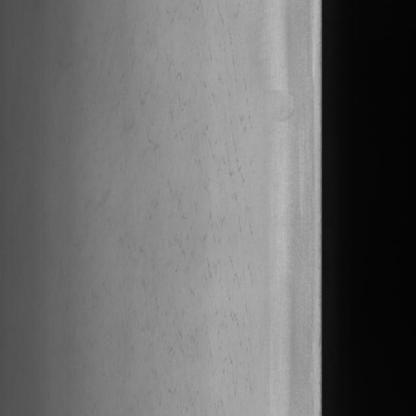silk_spot: (191, 95, 252, 321)
